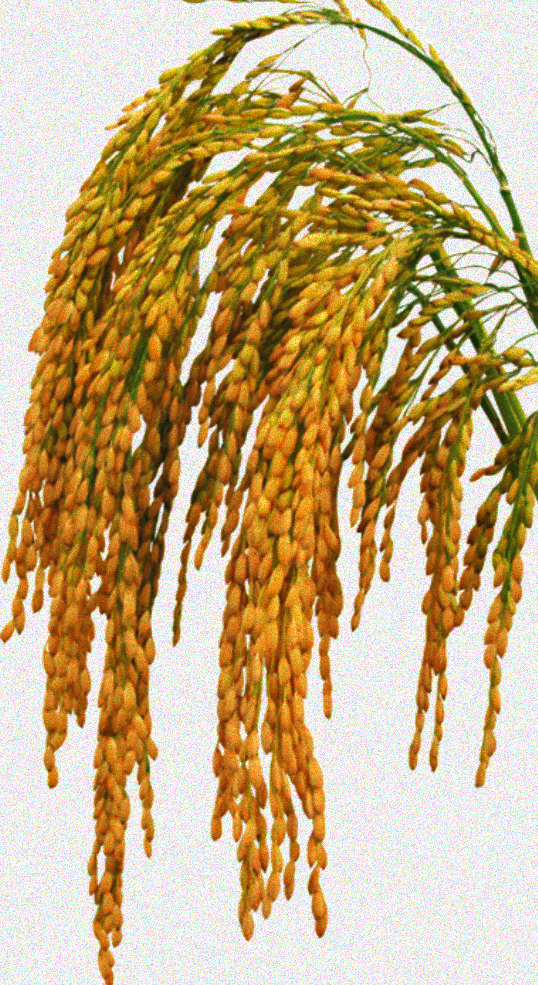rice: (6, 45, 495, 980)
